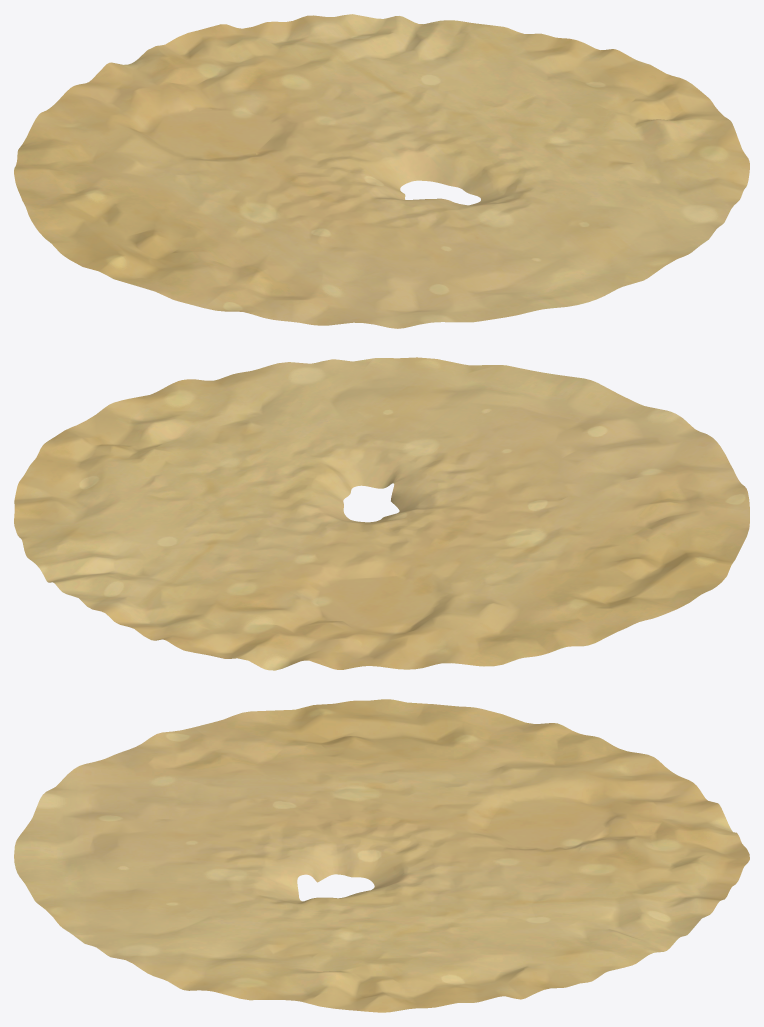
Rendered from Ground3.fbx.
3 renders of one model, top to bottom at view 1: azimuth 30°, elevation 25°; view 2: azimuth 150°, elevation 25°; view 3: azimuth 270°, elevation 25°, orthographic. The views are drawn at different scales.
Visible parts, largest first — view 1: SM_Terrain_JF_02; view 2: SM_Terrain_JF_02; view 3: SM_Terrain_JF_02.
Part boxes in pixels (x1,y1,x2,y2): SM_Terrain_JF_02: (14,14,749,328); SM_Terrain_JF_02: (14,357,749,670); SM_Terrain_JF_02: (14,699,749,1012).
Bounding box in the file's own units: 130304 × 4331 × 130639.
